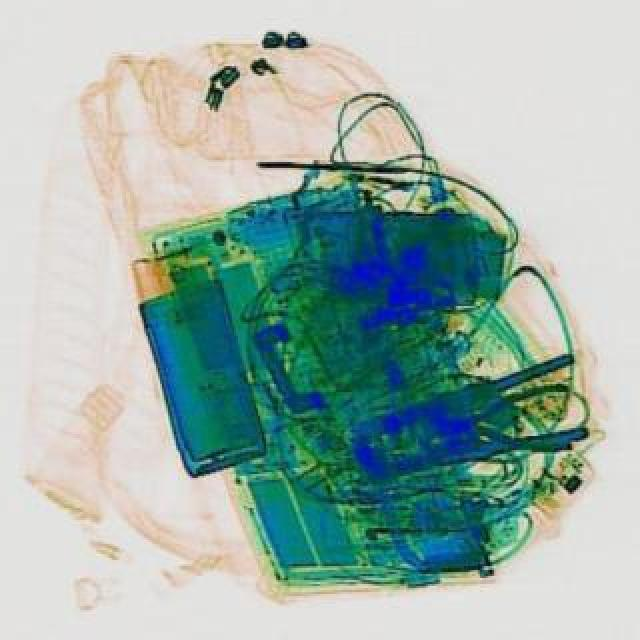wrench: (338, 348, 598, 496), (442, 376, 590, 462)
